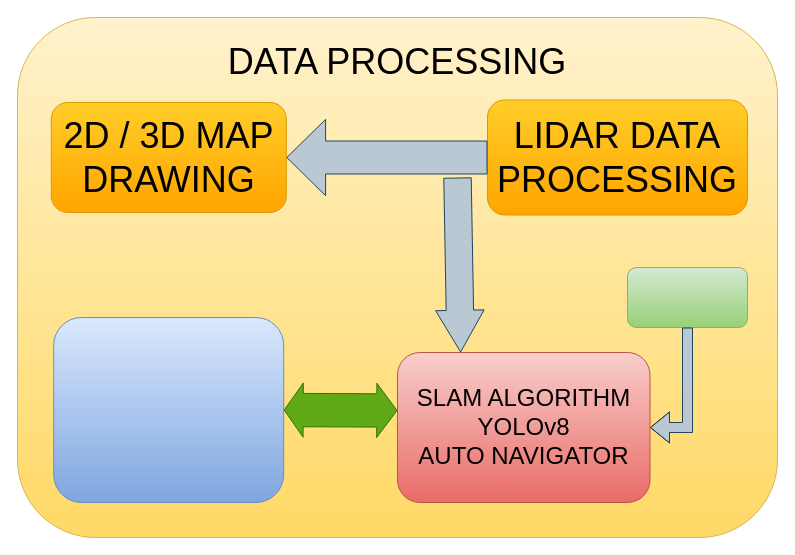
This 795x555 diagram has some shape labels left out. The box of each missing label's shape, as (x1, y1, x2, y2) in pixels:
CAMERA: (626, 266, 748, 328)
MOTOR DIRECTION AND SPEED DRIVER: (53, 316, 284, 502)
